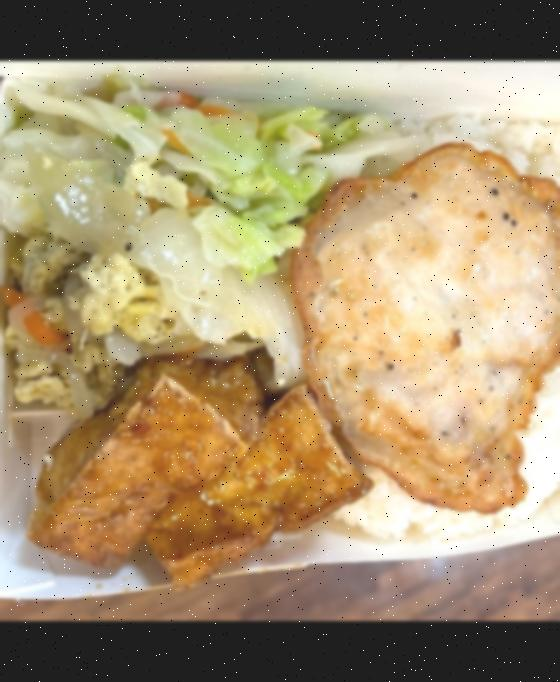box: (0, 72, 560, 602)
grilled chicken steak: (296, 149, 560, 512)
side dish: (0, 75, 348, 379), (36, 365, 366, 576), (3, 237, 199, 399)
white rice: (312, 114, 560, 549)
